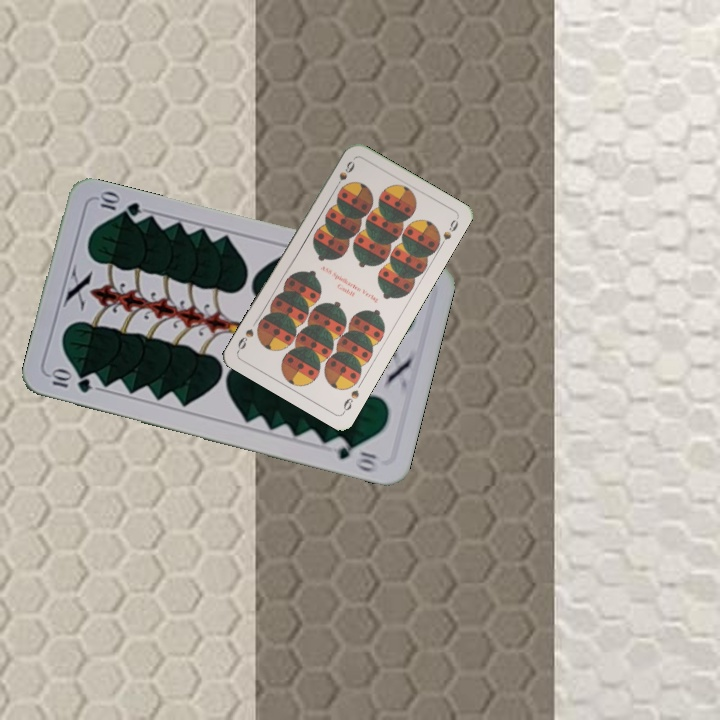G10: (46, 367, 95, 396)
S9: (330, 157, 358, 192), (339, 386, 362, 416)
